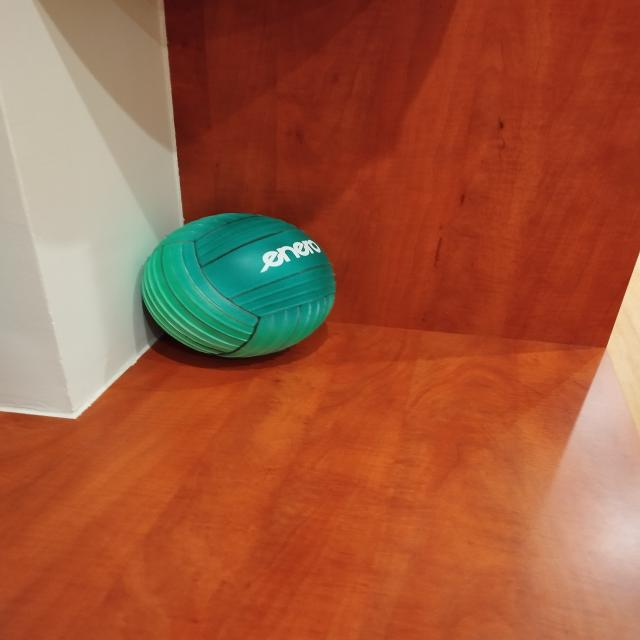zielona: (141, 212, 336, 358)
